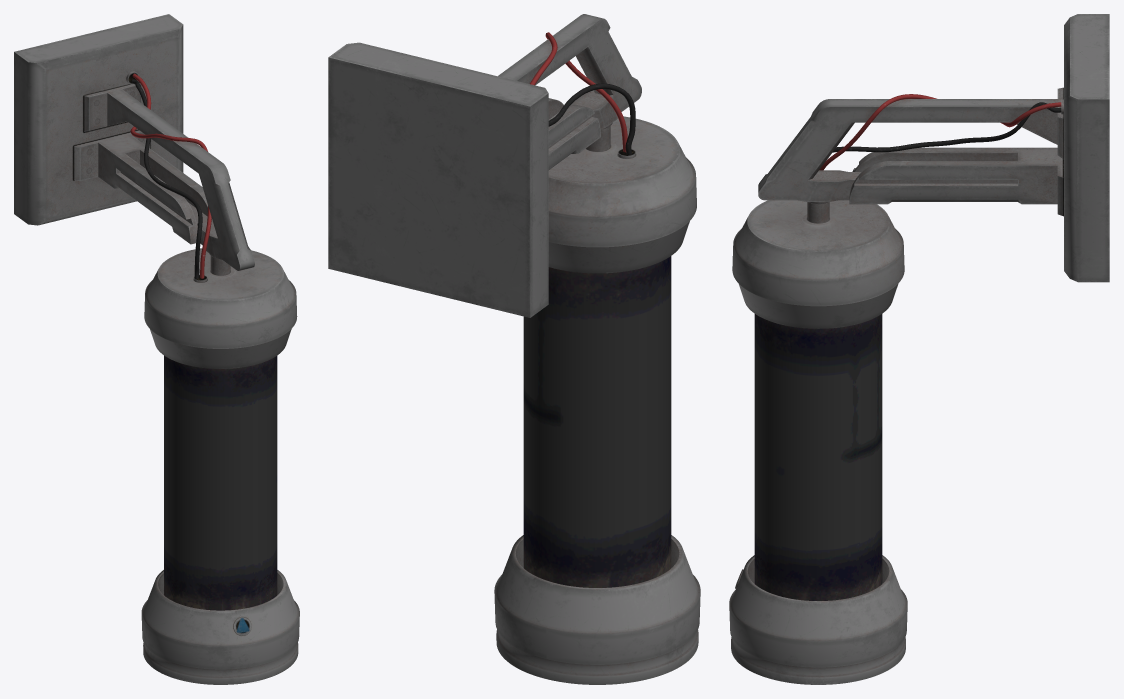
Rendered from cs1-wall-light-6.glb.
3 renders of one model, left to right at view 1: azimuth 30°, elevation 25°; view 2: azimuth 150°, elevation 25°; view 3: azimuth 270°, elevation 25°, orthographic. The views are drawn at different scales.
Parts seen in each view (by area): view 1: SM_CS1_WallLight_06_c1_LOD0; view 2: SM_CS1_WallLight_06_c1_LOD0; view 3: SM_CS1_WallLight_06_c1_LOD0.
Part boxes in pixels (x1=…): SM_CS1_WallLight_06_c1_LOD0: x1=14, y1=14, x2=299, y2=684; SM_CS1_WallLight_06_c1_LOD0: x1=328, y1=14, x2=700, y2=684; SM_CS1_WallLight_06_c1_LOD0: x1=729, y1=14, x2=1109, y2=684.
Bounding box in the file's own units: 0.2229 × 0.7208 × 0.4203.
Materials: 2 (2 with a texture image).
